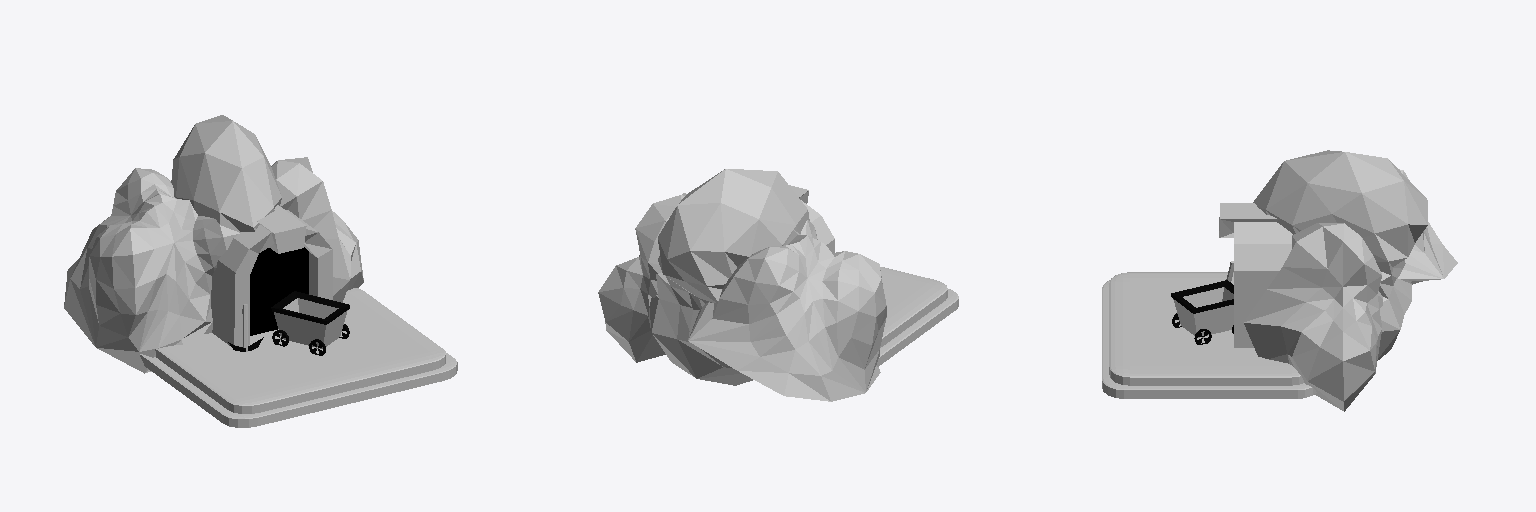
Rendered from Mine.obj.
3 renders of one model, left to right at view 1: azimuth 30°, elevation 25°; view 2: azimuth 150°, elevation 25°; view 3: azimuth 270°, elevation 25°, orthographic.
Visible parts, largest first — view 1: rock.011, Roundcube, rock.004, Torus.003, rock.007, Roundcube.001, Cube.018, Cube.019; view 2: rock.011, rock.004, rock.007, Roundcube, Roundcube.001, Torus.003; view 3: rock.007, rock.004, Roundcube, Torus.003, Roundcube.001, Cube.019, rock.011.
Part boxes in pixels (bbox=[...]): rock.011: bbox=[64, 168, 239, 373]; Roundcube: bbox=[155, 288, 445, 413]; rock.004: bbox=[171, 115, 281, 232]; Torus.003: bbox=[211, 205, 332, 346]; rock.007: bbox=[271, 157, 363, 302]; Roundcube.001: bbox=[140, 353, 457, 427]; Cube.018: bbox=[250, 247, 308, 335]; Cube.019: bbox=[271, 291, 349, 348]; rock.011: bbox=[688, 220, 886, 401]; rock.004: bbox=[648, 169, 809, 385]; rock.007: bbox=[598, 193, 686, 362]; Roundcube: bbox=[880, 267, 947, 347]; Roundcube.001: bbox=[876, 289, 958, 366]; Torus.003: bbox=[789, 185, 834, 252]; rock.007: bbox=[1244, 223, 1382, 411]; rock.004: bbox=[1253, 150, 1427, 360]; Roundcube: bbox=[1109, 272, 1303, 385]; Torus.003: bbox=[1219, 203, 1292, 347]; Roundcube.001: bbox=[1102, 280, 1316, 398]; Cube.019: bbox=[1171, 280, 1233, 337]; rock.011: bbox=[1398, 169, 1457, 284].
Bounding box in the file's own units: 58.76 × 45.57 × 67.52.